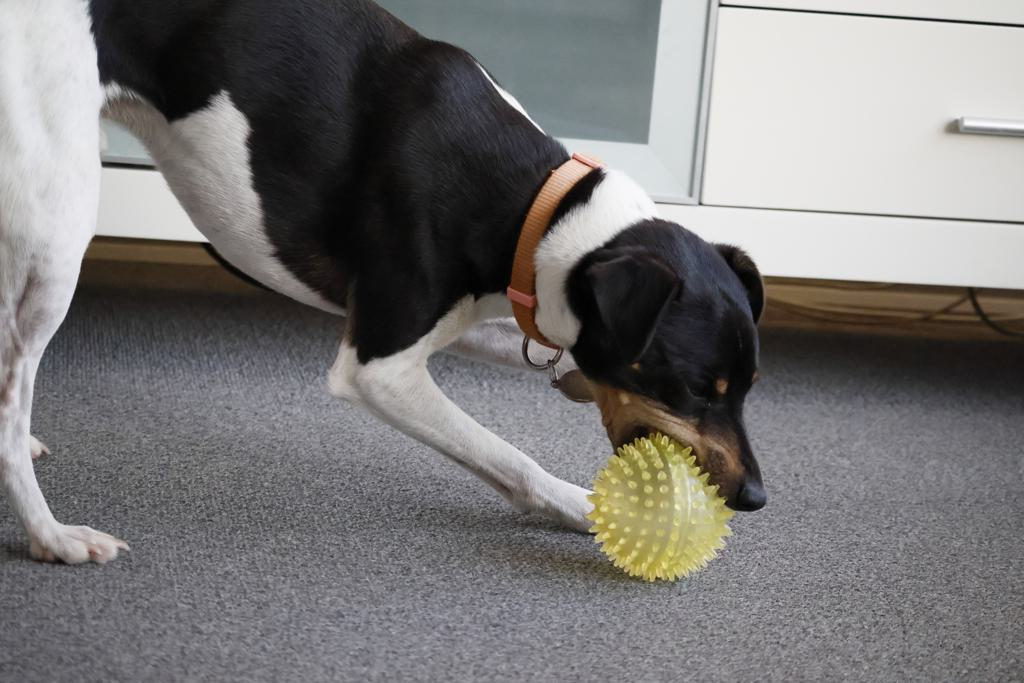Dog: (0, 0, 783, 572)
